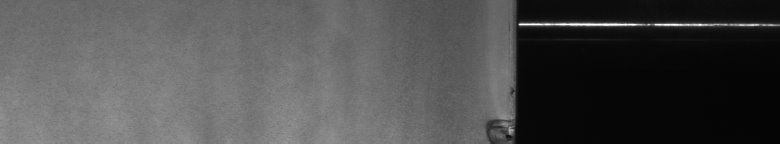hb: (479, 111, 504, 136)
